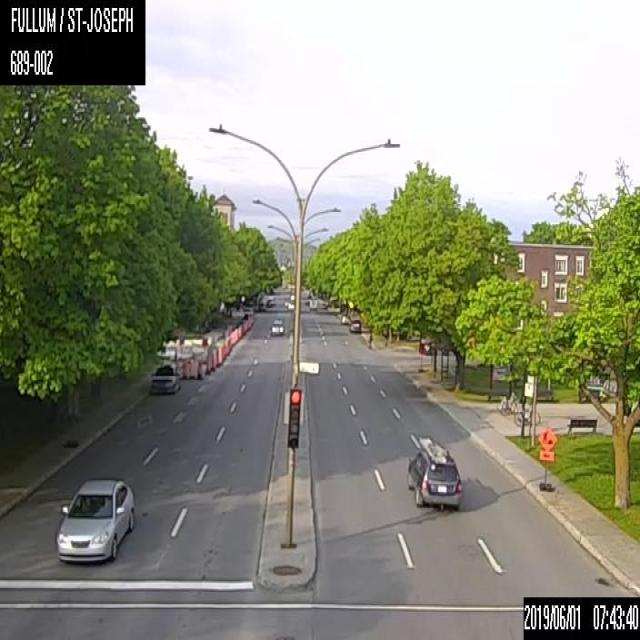construction: (536, 421, 556, 491), (196, 358, 203, 379), (180, 360, 188, 377), (188, 358, 194, 378), (204, 354, 210, 374), (209, 352, 215, 371), (216, 348, 220, 366)
vehicle: (54, 475, 136, 564), (405, 444, 462, 507), (148, 366, 179, 394), (269, 317, 284, 336), (348, 319, 360, 332), (340, 313, 350, 324), (308, 298, 317, 310)
